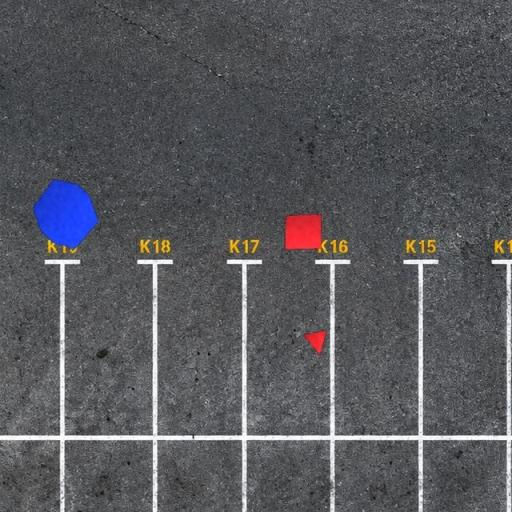RED_SQUARE: (284, 214, 322, 250)
